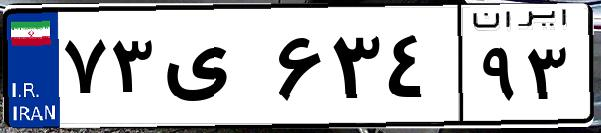3: (330, 28, 385, 110), (525, 38, 570, 115), (110, 28, 158, 98)
4: (385, 28, 445, 110)
6: (270, 28, 330, 110)
7: (57, 26, 110, 100)
9: (475, 38, 525, 113)
ی: (158, 20, 270, 120)
